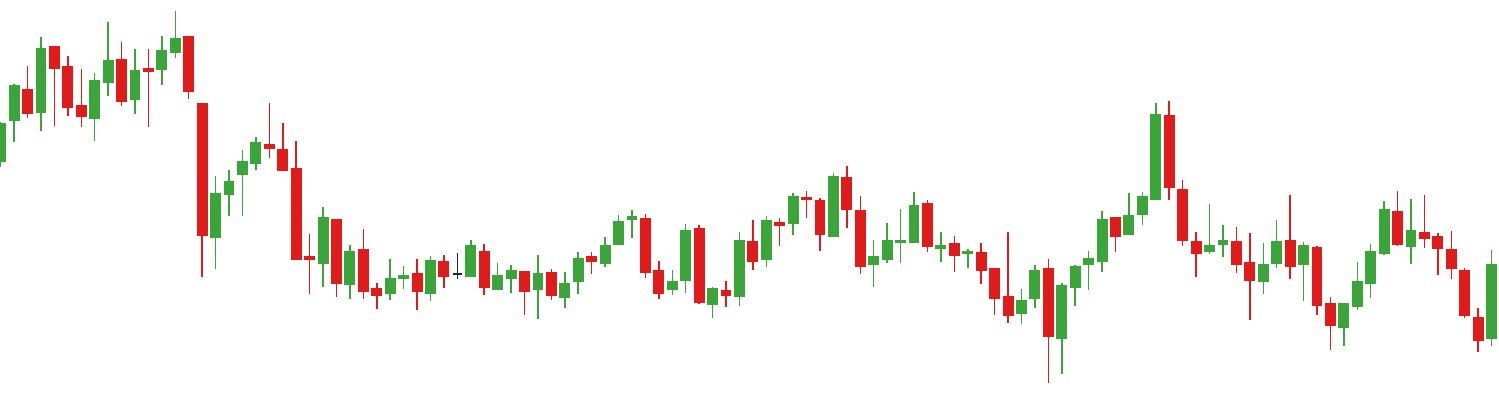buy: (1243, 219, 1351, 363)
sell: (100, 5, 198, 117)
